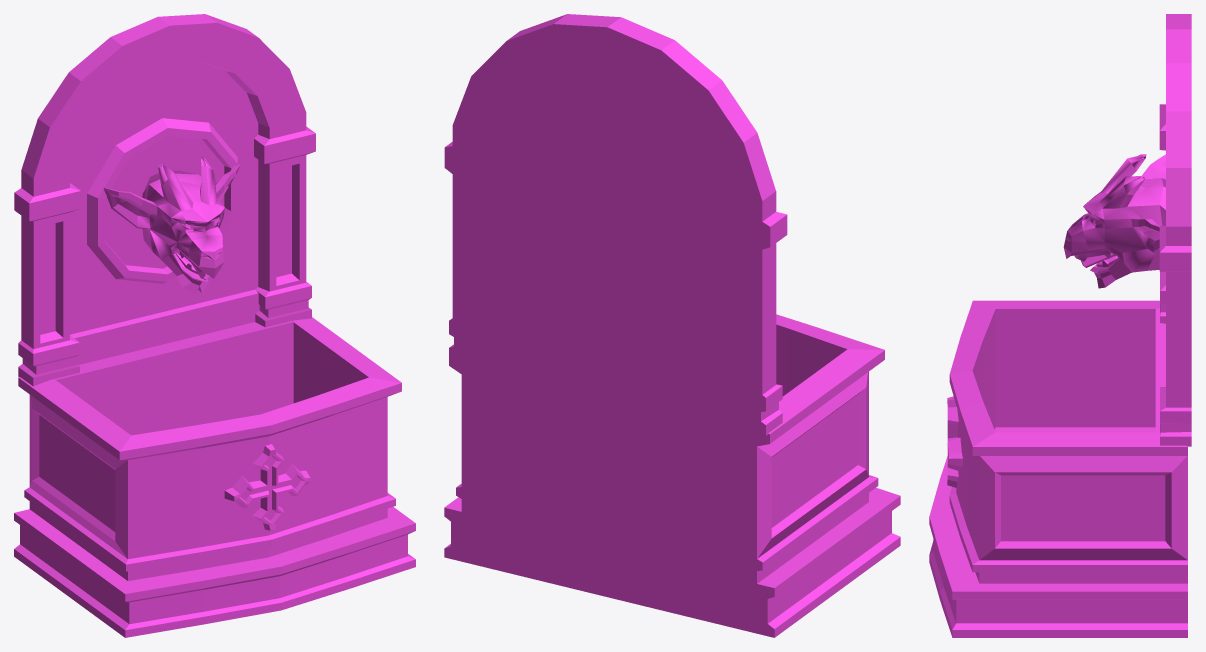
Rendered from SM_Fountain_Small_A_Fantasy.fbx.
3 renders of one model, left to right at view 1: azimuth 30°, elevation 25°; view 2: azimuth 150°, elevation 25°; view 3: azimuth 270°, elevation 25°, orthographic. The views are drawn at different scales.
Parts seen in each view (by area): view 1: SM_Fountain_Small_A_Fantasy; view 2: SM_Fountain_Small_A_Fantasy; view 3: SM_Fountain_Small_A_Fantasy.
Part boxes in pixels (<box>): SM_Fountain_Small_A_Fantasy: <box>14,14,415,637</box>; SM_Fountain_Small_A_Fantasy: <box>444,14,900,637</box>; SM_Fountain_Small_A_Fantasy: <box>929,14,1191,637</box>.
Bounding box in the file's own units: 1.36 × 2.24 × 0.9996.
